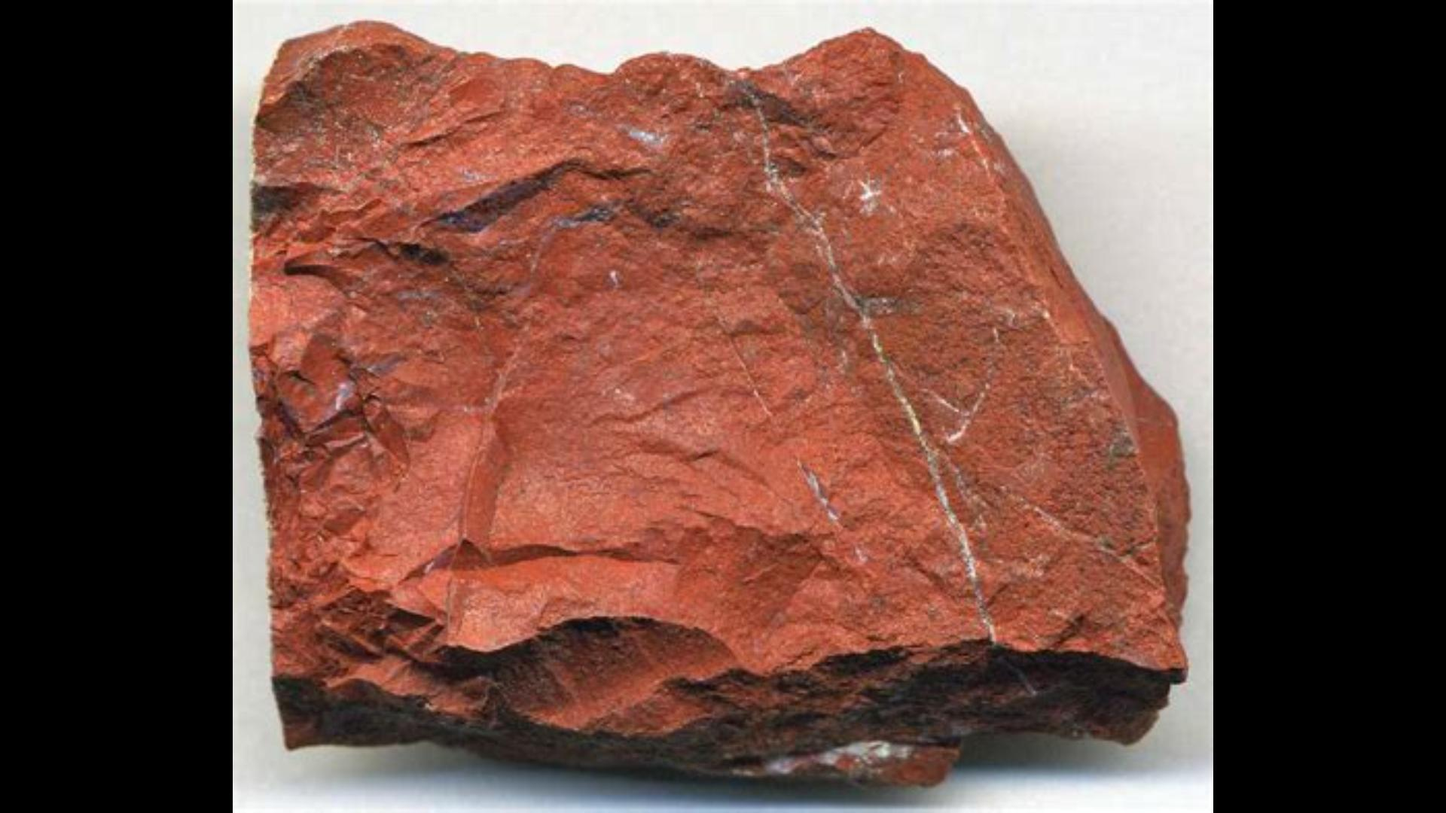rock: (251, 23, 1183, 778)
